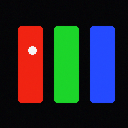0 point: (28, 46, 36, 54)
